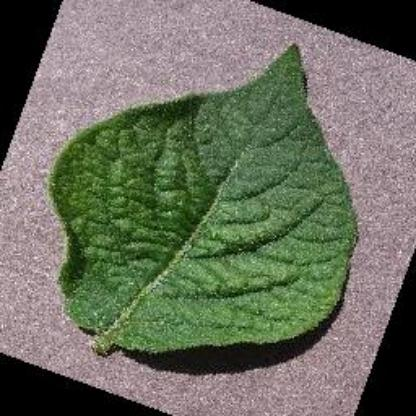Healthy-plant: (47, 39, 368, 365)
